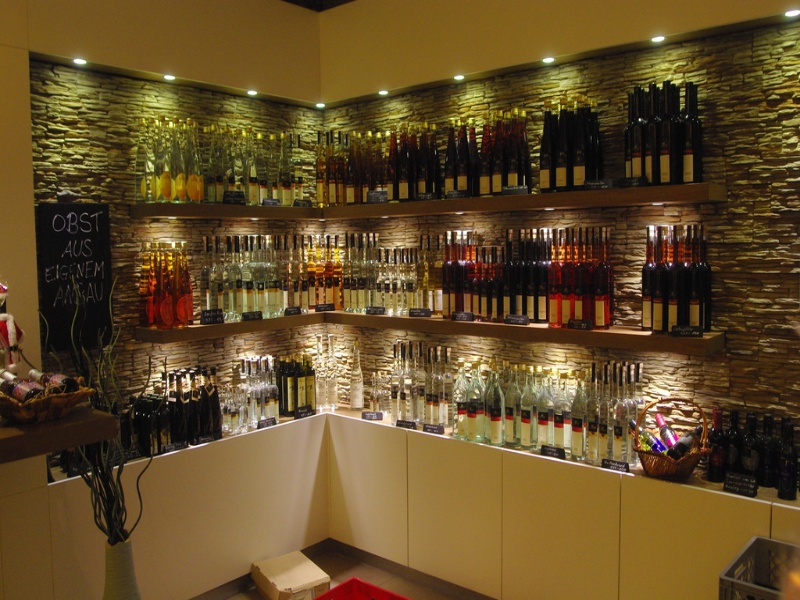wine: (47, 69, 719, 484)
